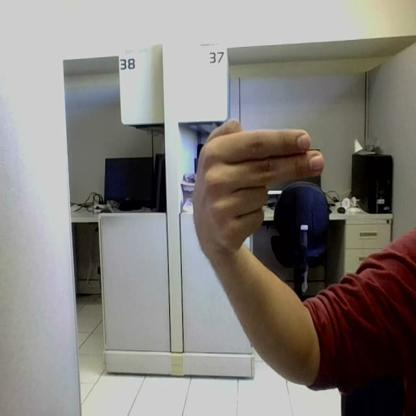H: (201, 119, 324, 252)
